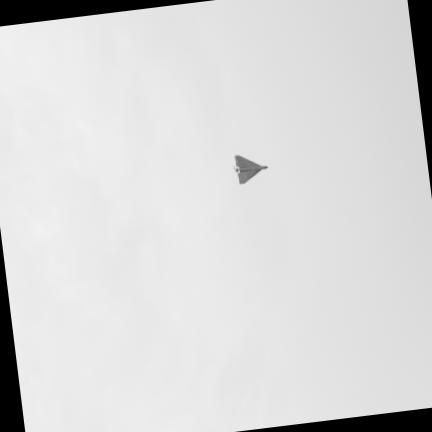Shahed: (233, 153, 268, 183)
